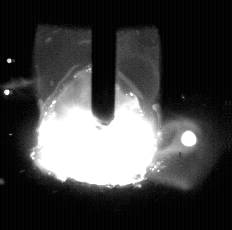arame: (93, 0, 116, 125)
poca: (36, 0, 156, 230)
